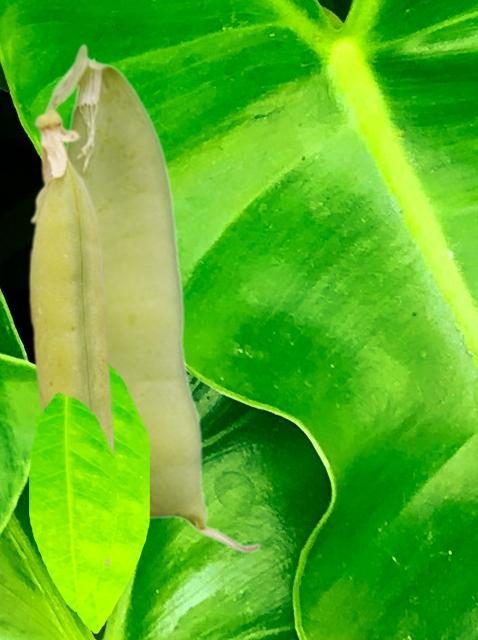pea: (33, 43, 262, 553), (28, 107, 115, 565)
